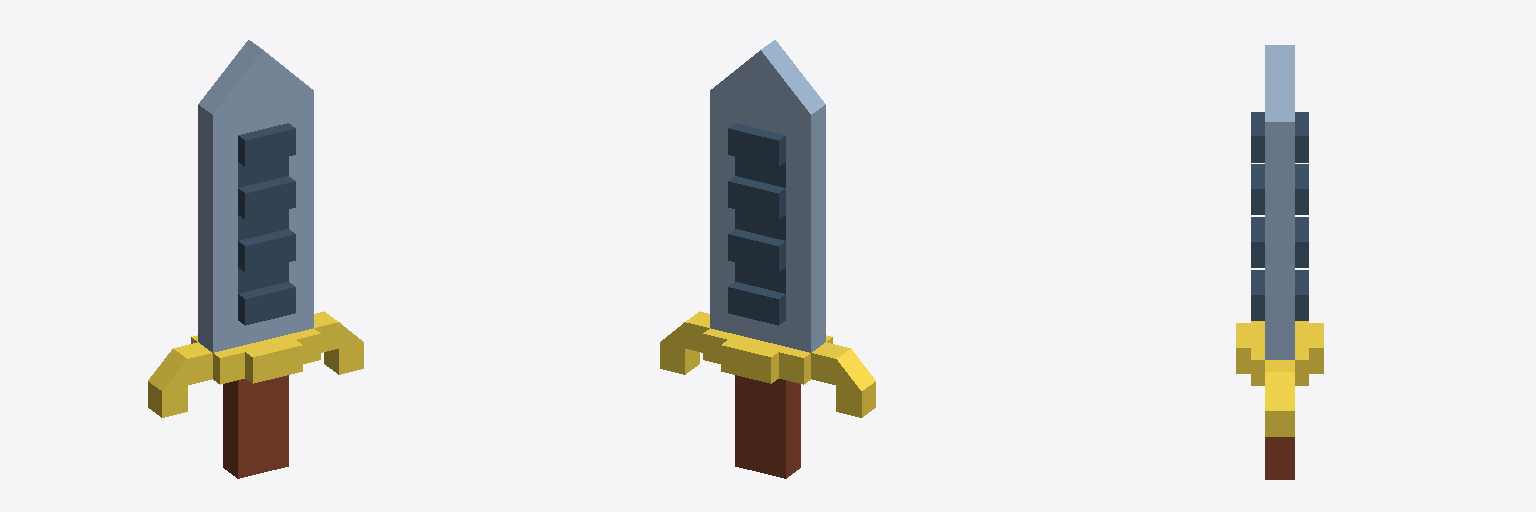
File: sword.obj
3 views of the same model, side by side, from view 1: azimuth 30°, elevation 25°; view 2: azimuth 150°, elevation 25°; view 3: azimuth 270°, elevation 25° (orthographic).
Bounding box in the file's own units: 8 × 16 × 3.